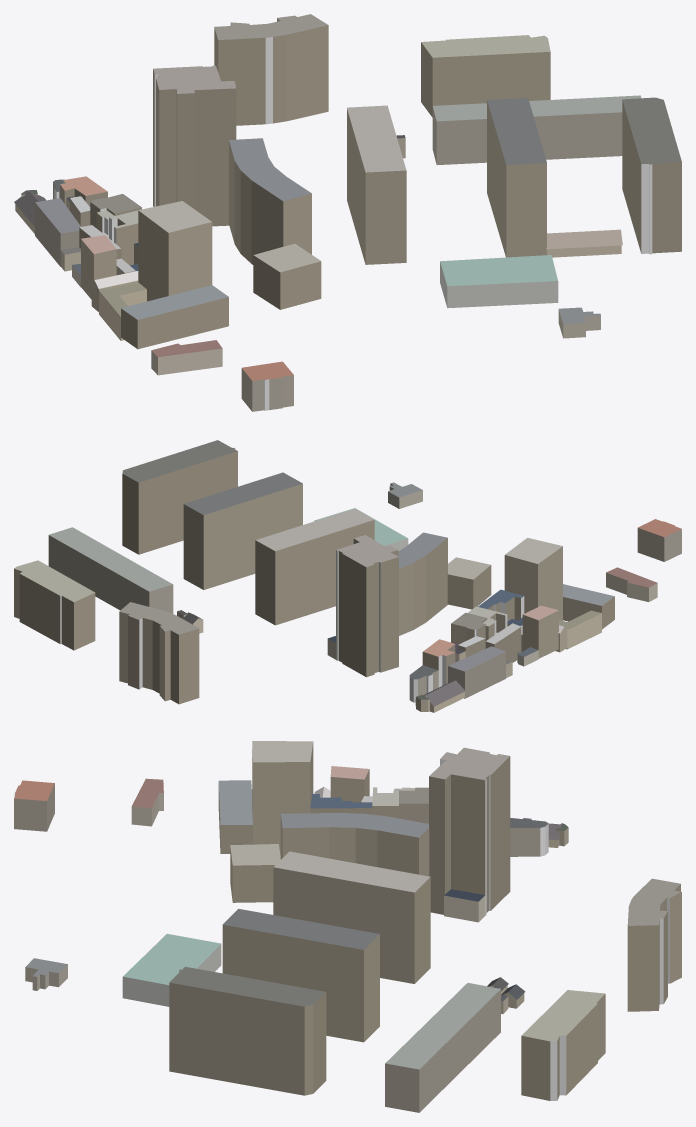
3 renders of one model, top to bottom at view 1: azimuth 30°, elevation 25°; view 2: azimuth 150°, elevation 25°; view 3: azimuth 270°, elevation 25°, orthographic. The views are drawn at different scales.
Parts seen in each view (by area): view 1: tuile; view 2: tuile; view 3: tuile.
Boxes of the visible parts, box(x1,y1,x2,y2) form: tuile: box(14, 14, 681, 411); tuile: box(14, 440, 681, 712); tuile: box(14, 741, 681, 1112).
Bounding box in the file's own units: 259 × 58.13 × 244.
